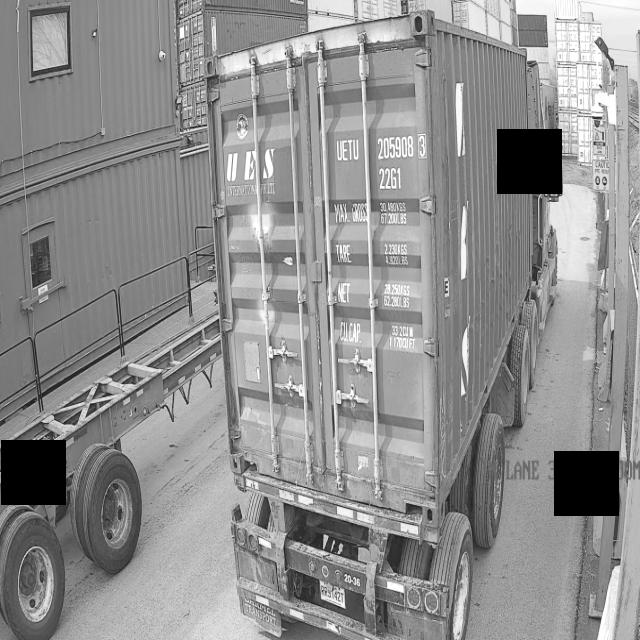container_company_logo: (225, 138, 292, 199)
container_number: (333, 124, 436, 192)
license_plate: (308, 576, 356, 612)
other_container_info: (333, 188, 430, 359)
truck_trailer: (0, 312, 221, 625)
truck_with_container: (205, 9, 562, 640)
